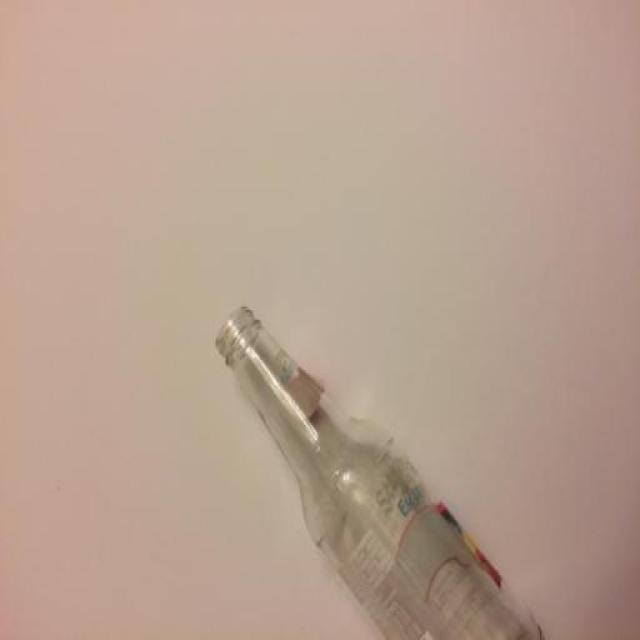glass: (214, 303, 546, 640)
